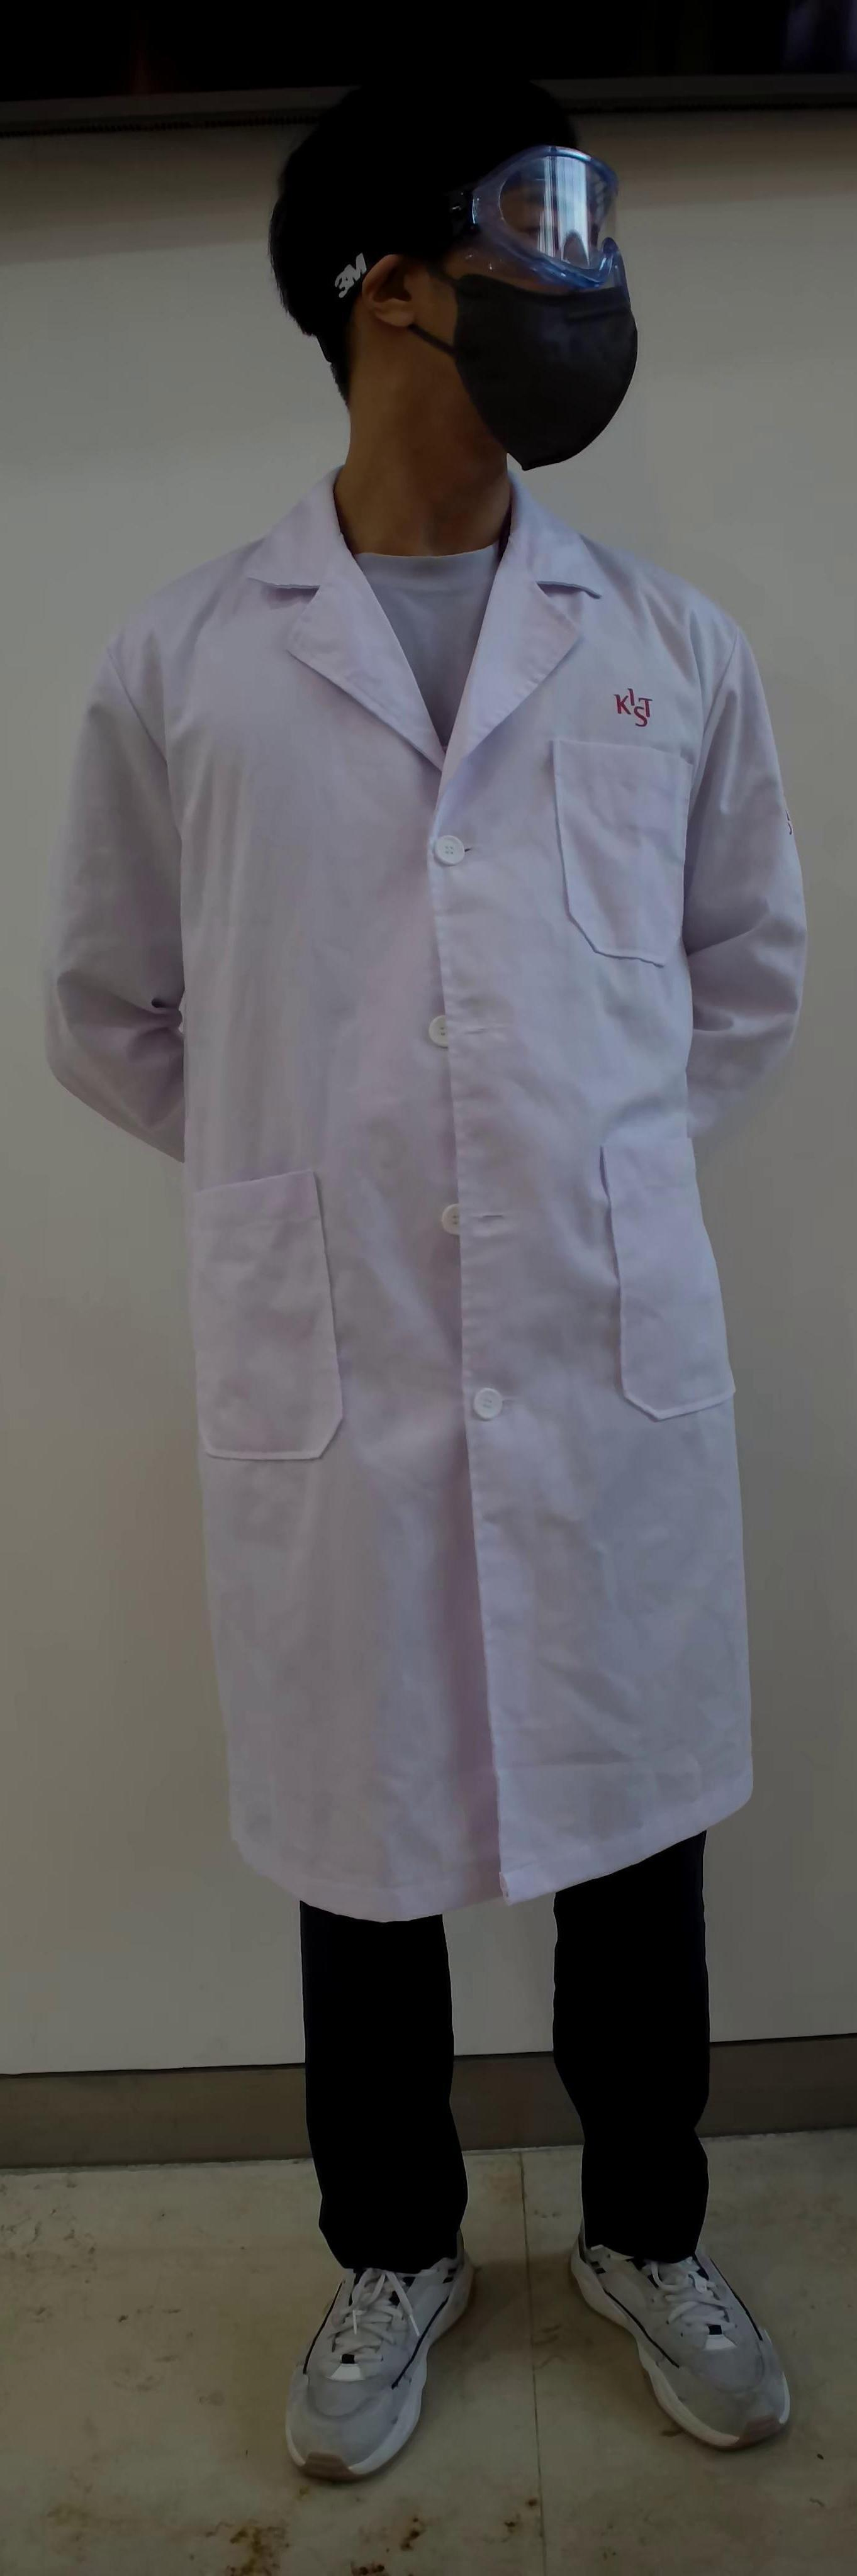lab_coat: (46, 536, 824, 1845)
